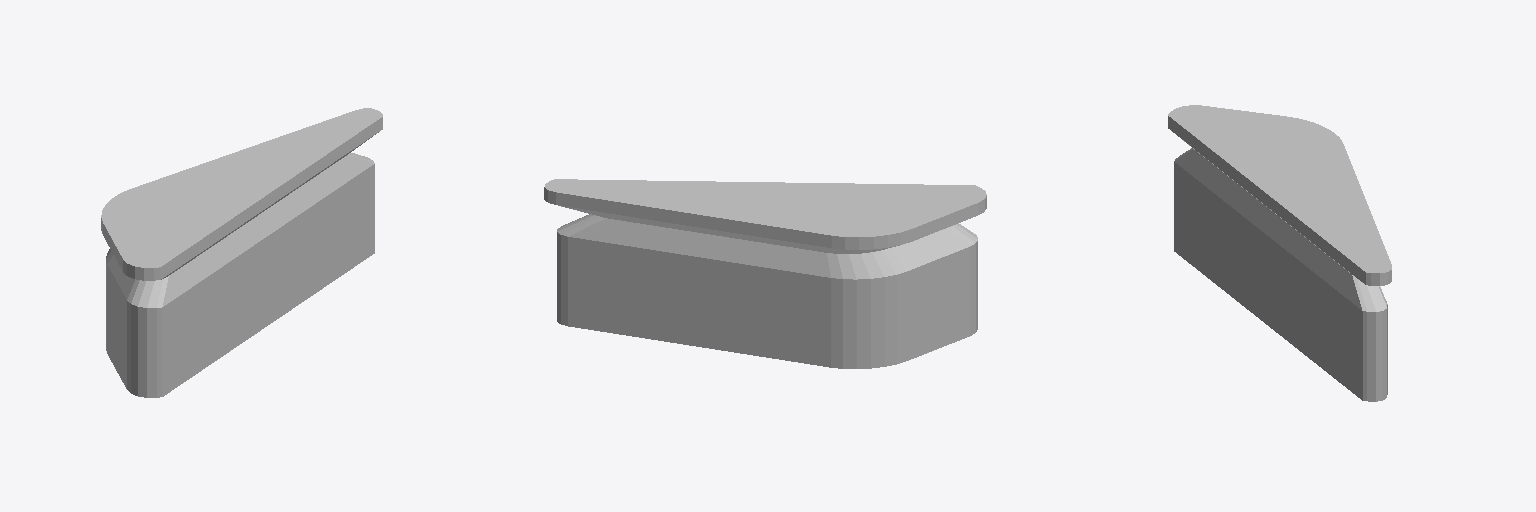
File: fancier_lower_left_bumper.obj
The picture shows the model from 3 angles: view 1: azimuth 30°, elevation 25°; view 2: azimuth 150°, elevation 25°; view 3: azimuth 270°, elevation 25°; orthographic projection.
Visible parts, largest first — view 1: Cube_Cube.003; view 2: Cube_Cube.003; view 3: Cube_Cube.003.
Part boxes in pixels (left/top/right/bottom): Cube_Cube.003: left=101, top=108, right=382, bottom=397; Cube_Cube.003: left=544, top=179, right=986, bottom=368; Cube_Cube.003: left=1168, top=105, right=1391, bottom=401.
Size of the model in its own units: 3.35 by 1.24 by 1.89.